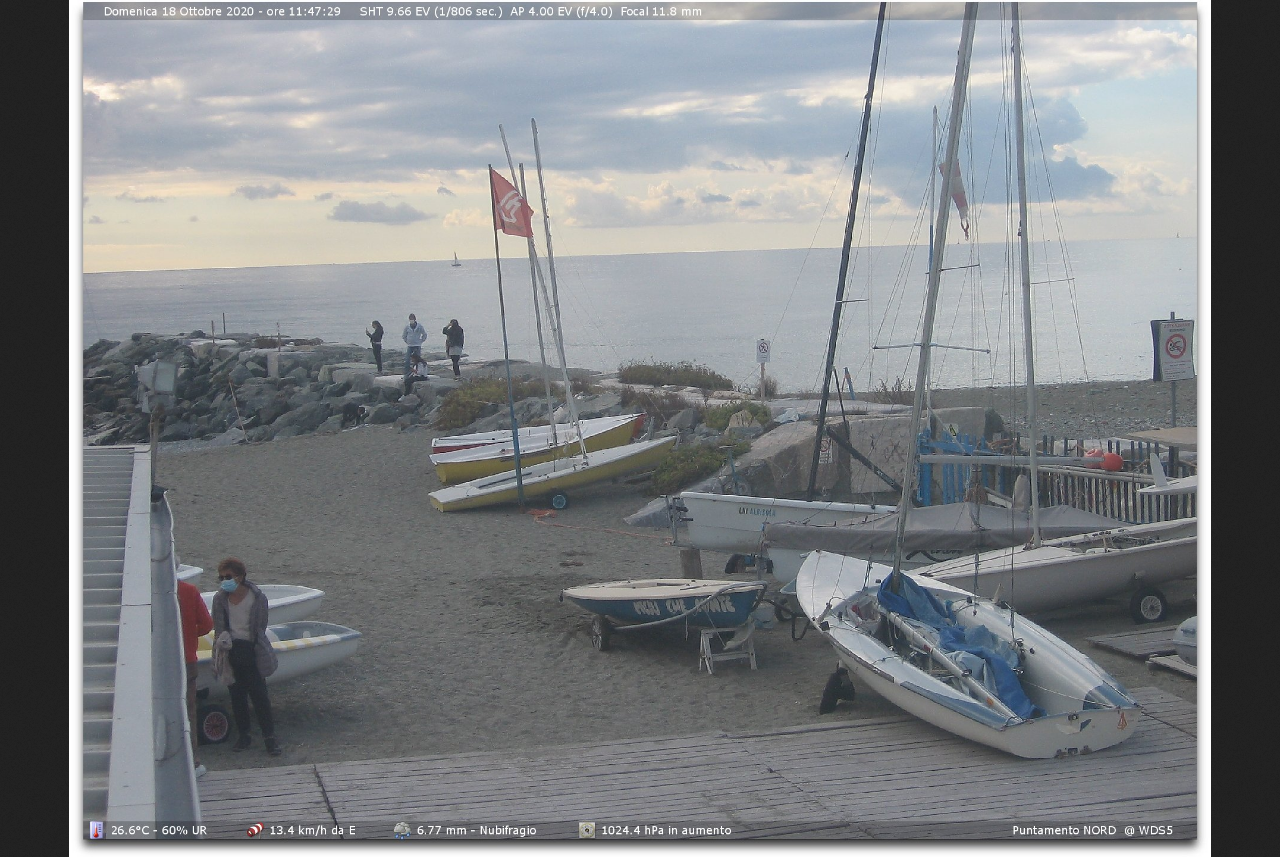maybe: (489, 166, 535, 241)
